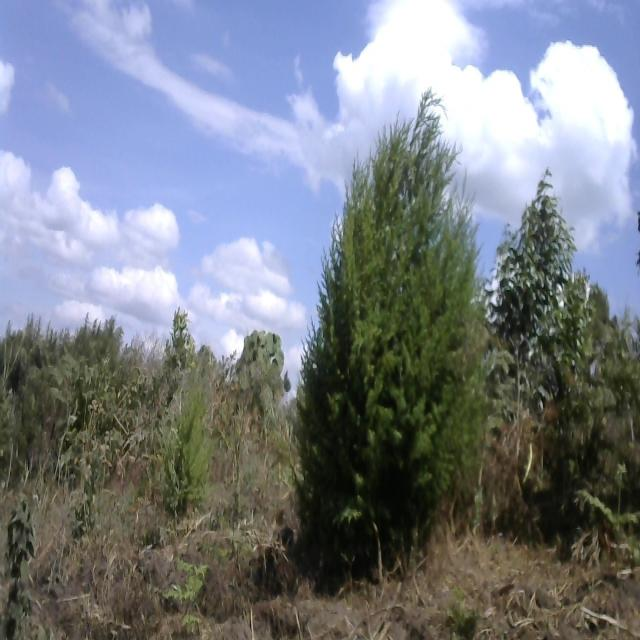Dombeya torrida: (235, 320, 290, 414)
Juniperus procesera: (297, 94, 487, 536), (158, 393, 222, 518)
Prunus Africana: (494, 156, 576, 349)
